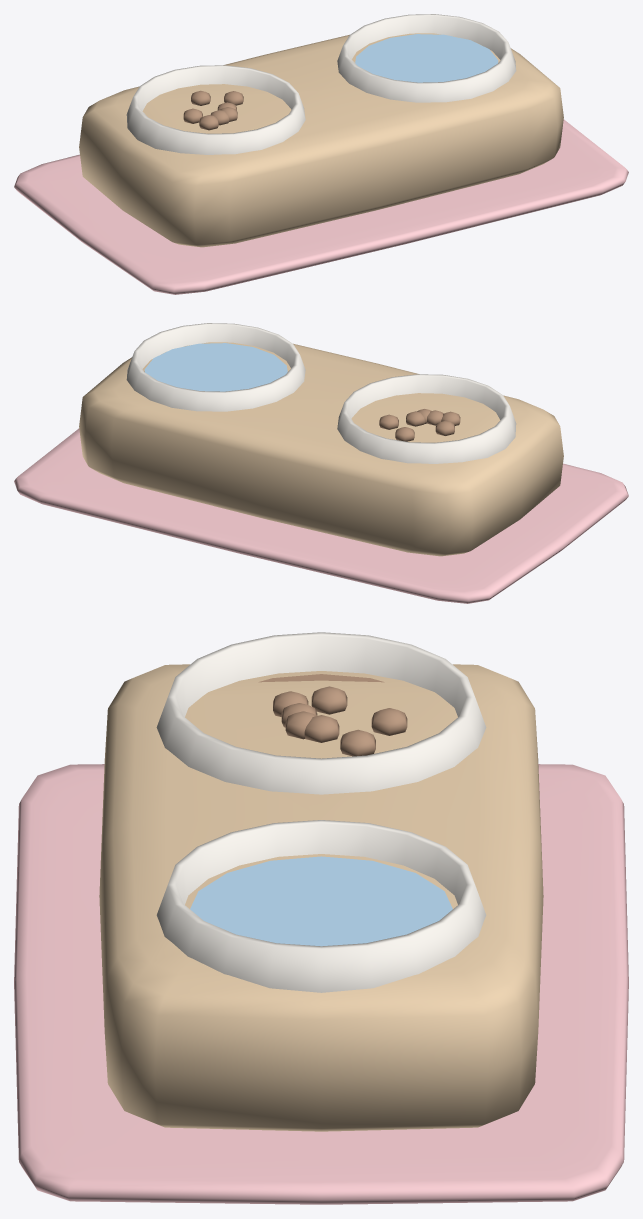
Rendered from companion-animals-and-pet-home-feeding-station-21800dc8__20640.glb.
The picture shows the model from 3 angles, top to bottom: view 1: azimuth 30°, elevation 25°; view 2: azimuth 150°, elevation 25°; view 3: azimuth 270°, elevation 25°; orthographic projection. The views are drawn at different scales.
Parts seen in each view (by area): view 1: feeding-station; view 2: feeding-station; view 3: feeding-station.
Part boxes in pixels (x1,y1,x2,y2): feeding-station: [14, 14, 628, 294]; feeding-station: [14, 323, 628, 603]; feeding-station: [14, 632, 628, 1204].
Size of the model in its own units: 0.6 by 0.13 by 0.36.
